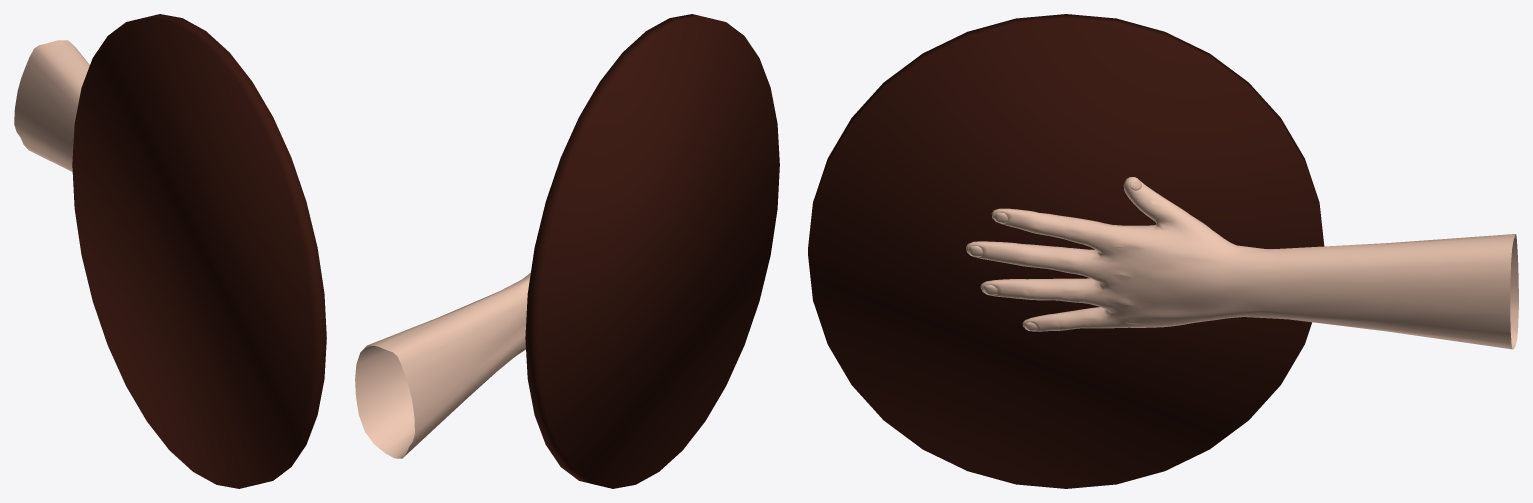
Rendered from Hand_3 1.fbx.
3 renders of one model, left to right at view 1: azimuth 30°, elevation 25°; view 2: azimuth 150°, elevation 25°; view 3: azimuth 270°, elevation 25°, orthographic. The views are drawn at different scales.
Parts seen in each view (by area): view 1: Cylinder; view 2: Cylinder; view 3: Cylinder.
Boxes of the visible parts, left/top/right/bottom form: Cylinder: left=14, top=14, right=326, bottom=488; Cylinder: left=355, top=14, right=779, bottom=488; Cylinder: left=808, top=14, right=1518, bottom=488.
Size of the model in its own units: 156 by 672 by 926.
